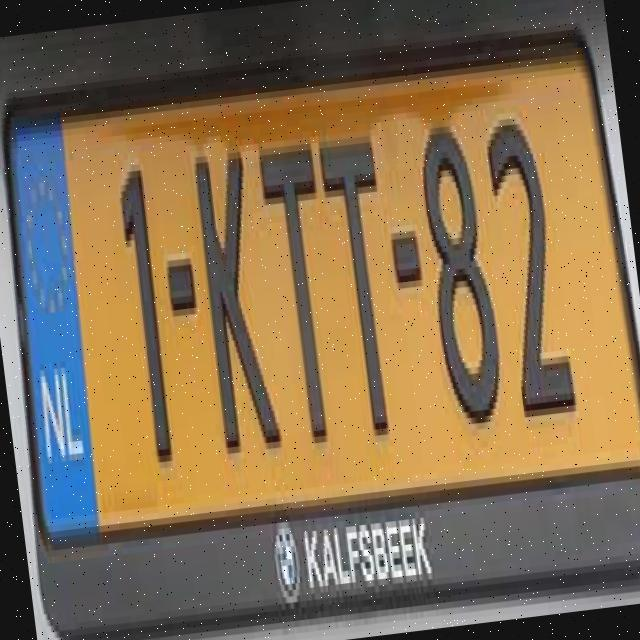EU: (8, 49, 635, 523)
Pays-Bas: (7, 122, 97, 531)
